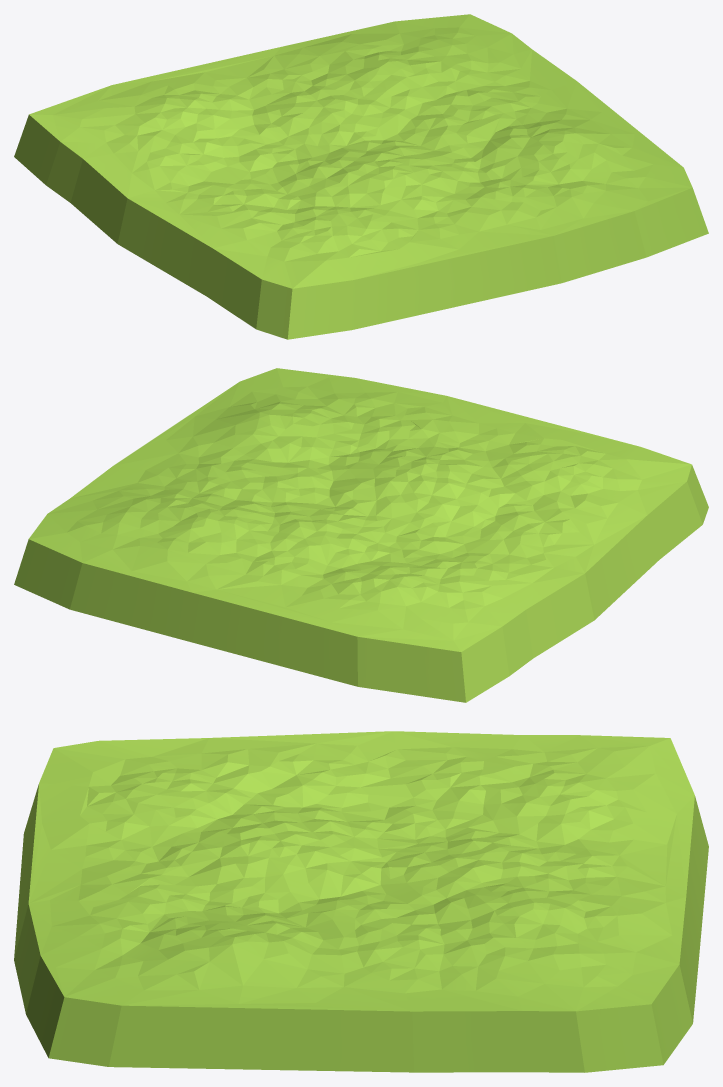
Rendered from BlenderMeadow.fbx.
3 renders of one model, top to bottom at view 1: azimuth 30°, elevation 25°; view 2: azimuth 150°, elevation 25°; view 3: azimuth 270°, elevation 25°, orthographic. The views are drawn at different scales.
Visible parts, largest first — view 1: PP_Meadow_07; view 2: PP_Meadow_07; view 3: PP_Meadow_07.
Boxes of the visible parts, x1,y1,x2,y2 form: PP_Meadow_07: [14, 14, 708, 339]; PP_Meadow_07: [14, 368, 708, 702]; PP_Meadow_07: [14, 731, 708, 1072].
Bounding box in the file's own units: 2251 × 283 × 2259.
1 material, 1 textured.
